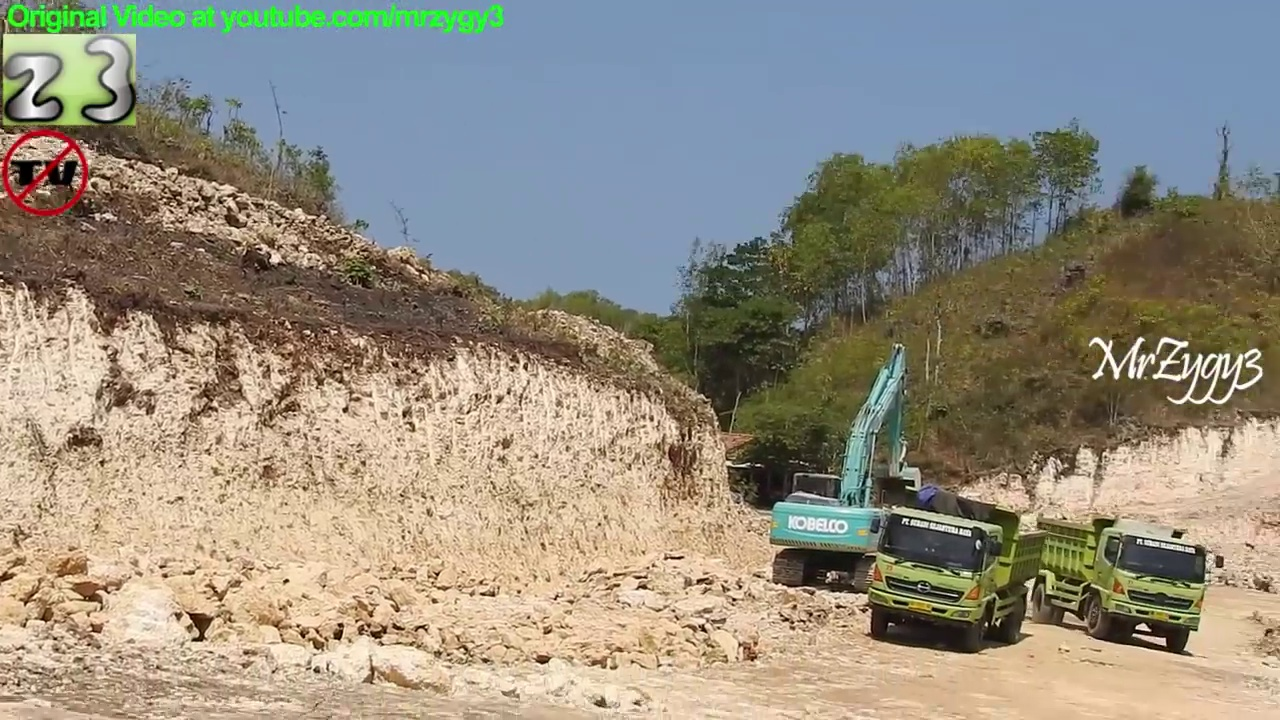excavator: (765, 338, 931, 599)
truck: (861, 490, 1051, 658), (1026, 509, 1229, 655)
